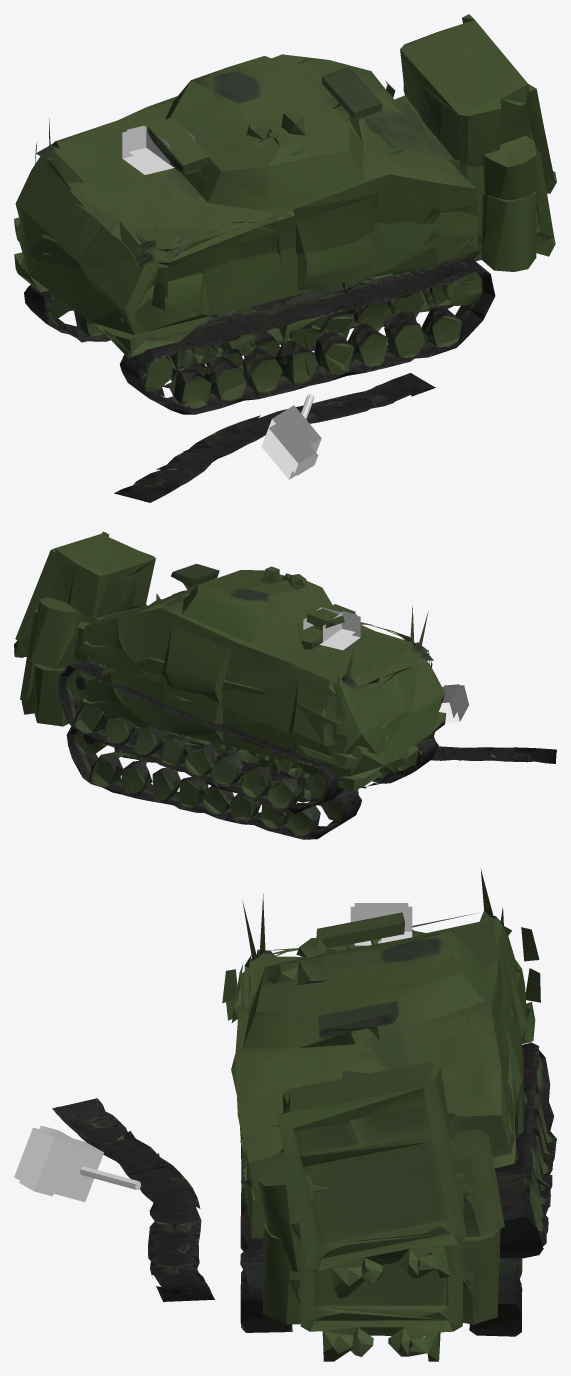
The model's file is demo_tzav.glb.
The picture shows the model from 3 angles, top to bottom: view 1: azimuth 30°, elevation 25°; view 2: azimuth 150°, elevation 25°; view 3: azimuth 270°, elevation 25°; orthographic projection. The views are drawn at different scales.
Parts seen in each view (by area): view 1: WRECK_hull_hull, hull_rubber, hull_hull, WRECK_hull_rubber, WRECK_turret_metal, WRECK_turret_plate, turret_metal, turret_plate; view 2: WRECK_hull_hull, hull_hull, WRECK_hull_rubber, hull_rubber, turret_metal, WRECK_turret_metal, turret_plate; view 3: WRECK_hull_hull, hull_hull, WRECK_hull_rubber, hull_rubber, WRECK_turret_metal, WRECK_turret_plate, turret_plate.
Boxes of the visible parts, left/top/right/bottom form: WRECK_hull_hull: left=15, top=14, right=556, bottom=381; hull_rubber: left=14, top=244, right=495, bottom=414; hull_hull: left=16, top=116, right=555, bottom=371; WRECK_hull_rubber: left=14, top=216, right=482, bottom=502; WRECK_turret_metal: left=261, top=394, right=321, bottom=479; WRECK_turret_plate: left=265, top=417, right=318, bottom=475; turret_metal: left=122, top=126, right=194, bottom=174; turret_plate: left=127, top=125, right=170, bottom=169; WRECK_hull_hull: left=14, top=531, right=440, bottom=788; hull_hull: left=20, top=595, right=445, bottom=800; WRECK_hull_rubber: left=58, top=645, right=556, bottom=813; hull_rubber: left=66, top=703, right=446, bottom=839; turret_metal: left=303, top=607, right=360, bottom=650; WRECK_turret_metal: left=439, top=685, right=468, bottom=723; turret_plate: left=323, top=611, right=357, bottom=645; WRECK_hull_hull: left=226, top=868, right=539, bottom=1298; hull_hull: left=222, top=894, right=540, bottom=1361; WRECK_hull_rubber: left=52, top=1002, right=556, bottom=1301; hull_rubber: left=240, top=1147, right=522, bottom=1336; WRECK_turret_metal: left=14, top=1127, right=140, bottom=1201; WRECK_turret_plate: left=19, top=1125, right=72, bottom=1196; turret_plate: left=350, top=906, right=412, bottom=941.
Size of the model in its own units: 9.79 by 4.41 by 7.08.
Materials: 1 (1 with a texture image).
